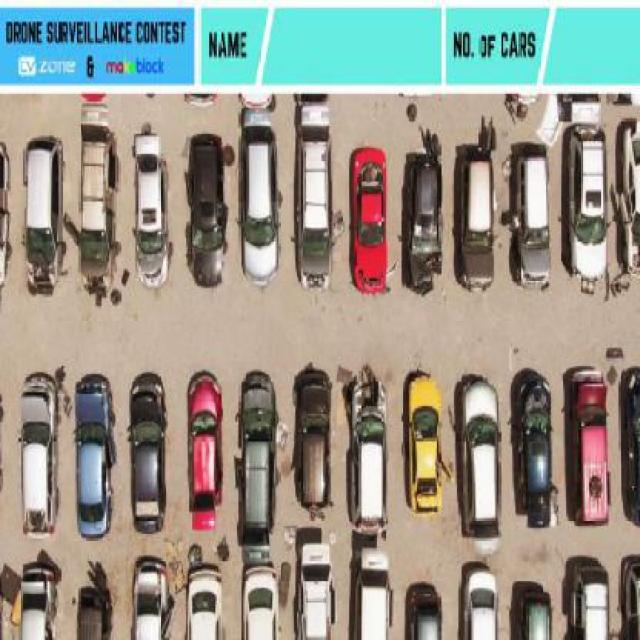car: (456, 374, 504, 552), (564, 361, 613, 525), (70, 370, 116, 539), (13, 372, 59, 540), (512, 365, 558, 527), (297, 99, 335, 293), (562, 120, 607, 283), (291, 365, 338, 519), (239, 367, 279, 546), (241, 111, 282, 285), (344, 145, 391, 294), (346, 370, 389, 532), (126, 370, 169, 530), (186, 131, 228, 290), (130, 133, 172, 290), (19, 134, 60, 293), (512, 142, 556, 288), (74, 122, 112, 288), (185, 369, 227, 517), (404, 370, 445, 518), (458, 146, 499, 292), (406, 146, 446, 295), (298, 528, 336, 640), (19, 546, 64, 640), (352, 538, 391, 639), (566, 553, 610, 639), (618, 114, 640, 280), (130, 552, 171, 639), (462, 559, 502, 639), (620, 364, 640, 524), (185, 562, 225, 639), (242, 560, 280, 638), (513, 576, 556, 638), (404, 578, 446, 638), (76, 583, 116, 640), (619, 552, 640, 639), (0, 141, 12, 293), (0, 383, 6, 519), (0, 560, 7, 640)
